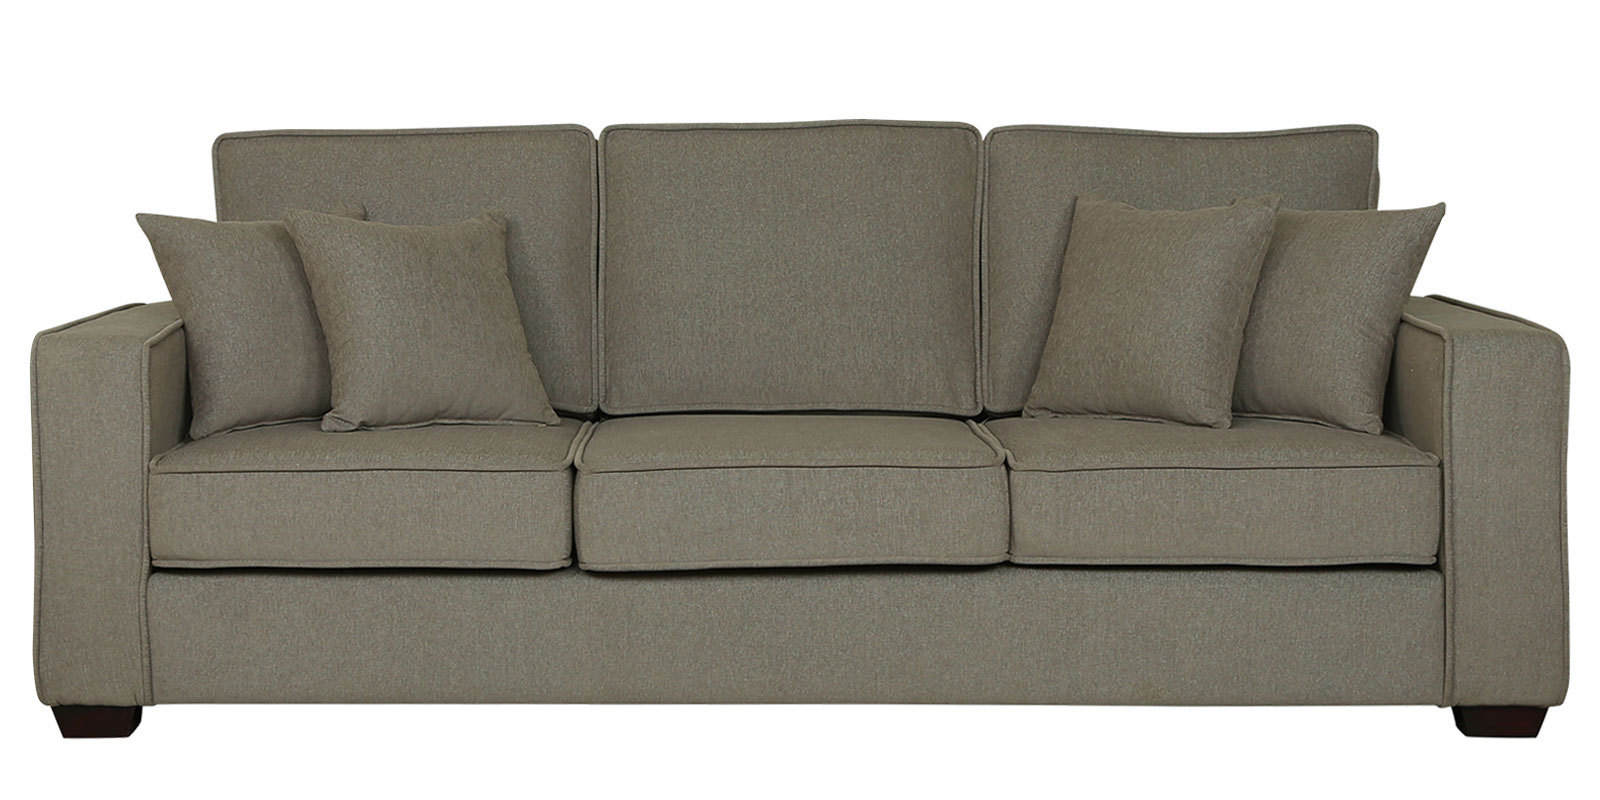Hugo Three Seater Sofa in Sandy Brown Colour by CasaCraft: (22, 114, 1587, 760)
